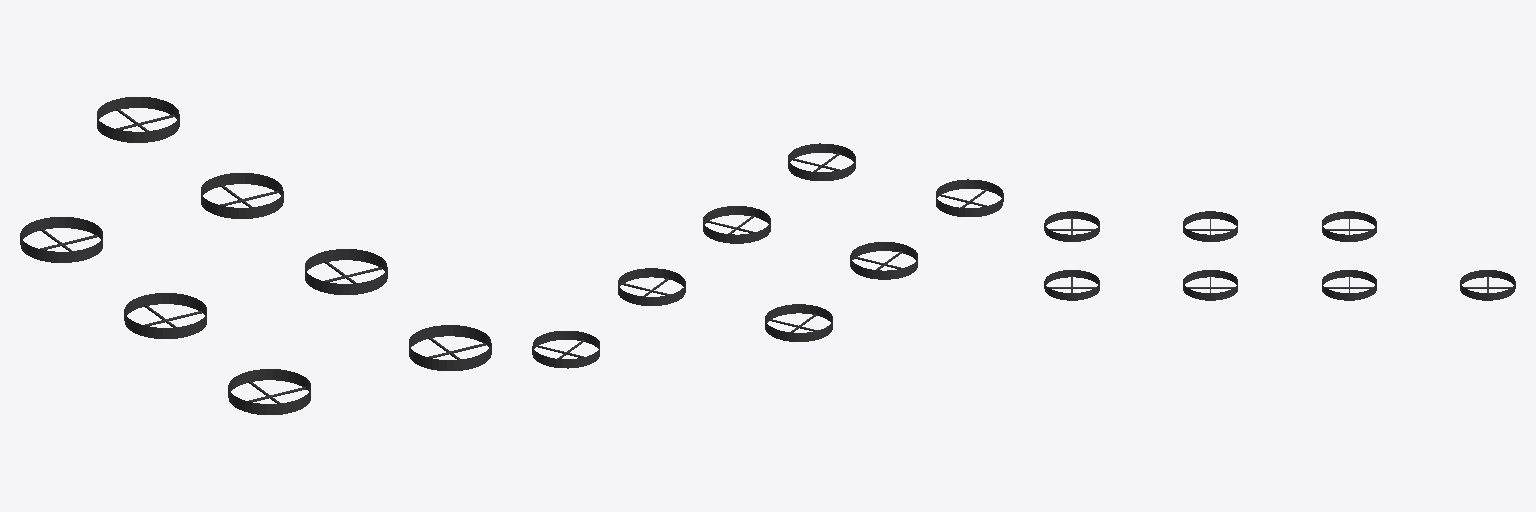
robot.urdf — 2x1:
<?xml version="1.0"?>
<robot name="2x1">
    <properties arm="0.0397" kf="3.16e-10" km="7.94e-12" thrust2weight="2.25" max_speed_kmh="30" gnd_eff_coeff="11.36859" prop_radius="2.31348e-2" drag_coeff_xy="9.1785e-7" drag_coeff_z="10.311e-7" dw_coeff_1="2267.18" dw_coeff_2=".16" dw_coeff_3="-.11" />
    <link name="robot_base">
        <!-- TODO: Change inertial and mass values -->
        <inertial>
            <!-- <origin rpy="-3.141593 3.141593 -3.141593" xyz="-0.100000 -0.100000 0.350000" /> -->
            <origin rpy="-3.141593 3.141593 -3.141593" xyz="0 0 0.240000" />
            <inertia ixx="0.006756000000000001" ixz="0.0" ixy="0.0" iyy="2.8e-05" iyz="0.0" izz="0.0067714" />
            <mass value="0.068" />
        </inertial>
        <collision name="MultiRotor">
            <origin xyz="-0.100000 -0.100000 0.350000" rpy="-3.141593 3.141593 -3.141593" />
            <geometry>
                <box size="0.200000 0.400000 0.020000" />
            </geometry>
        </collision>
        <visual name="Shape2">
            <origin xyz="-0.100001 -0.000000 0.379999" rpy="-1.570294 -1.570796 0.000000" />
            <geometry>
                <mesh filename="./2x1_Shape2_vis_1.dae" />
            </geometry>
            <material name="Shape2_material">
                <color rgba="1.000000 1.000000 1.000000 1.0" />
            </material>
        </visual>
        <visual name="Shape1">
            <origin xyz="-0.099992 -0.199992 0.380003" rpy="-1.570294 -1.570796 0.000000" />
            <geometry>
                <mesh filename="./2x1_Shape1_vis_1.dae" />
            </geometry>
            <material name="Shape1_material">
                <color rgba="1.000000 1.000000 1.000000 1.0" />
            </material>
        </visual>
    </link>
    <joint name="propeller1" type="fixed">
        <axis xyz="0 0 1" />
        <parent link="robot_base" />
        <child link="propellerrespondable1" />
        <origin xyz="-0.049994 -0.049989 0.380002" rpy="-3.141593 3.141593 -3.141593" />
    </joint>
    <link name="propellerrespondable1">
        <inertial>
            <origin rpy="3.141593 3.141593 1.865350" xyz="-0.000000 0.000000 0.012000" />
            <inertia ixx="8.2325171633286e-08" ixz="5.7933230213793e-16" ixy="-5.0583716089947e-21" iyy="8.2325156656747e-08" iyz="-5.6129890954029e-16" izz="1.5977926901062e-07" />
            <mass value="0.00051458994857967" />
        </inertial>
        <collision name="propeller_respondable1">
            <origin xyz="-0.000000 0.000000 0.012000" rpy="3.141593 3.141593 1.865350" />
            <geometry>
                <cylinder length="0.0075362827628851" radius="0.024999996647239" />
            </geometry>
        </collision>
        <visual name="propeller_body">
            <origin xyz="-0.000000 0.000000 0.012000" rpy="-3.141593 3.141593 -3.141593" />
            <geometry>
                <mesh filename="./2x1_propellerbody_vis_1.dae" />
            </geometry>
            <material name="propellerbody_material">
                <color rgba="0.288235 0.288235 0.288235 1.0" />
            </material>
        </visual>
    </link>
    <joint name="propeller4" type="fixed">
        <axis xyz="0 0 1" />
        <parent link="robot_base" />
        <child link="propellerrespondable4" />
        <origin xyz="-0.049994 0.050010 0.380002" rpy="-3.141593 3.141593 -3.141593" />
    </joint>
    <link name="propellerrespondable4">
        <inertial>
            <origin rpy="3.141593 3.141593 1.865350" xyz="-0.000000 0.000000 0.012000" />
            <inertia ixx="8.2325171633286e-08" ixz="5.7933230213793e-16" ixy="-5.0583716089947e-21" iyy="8.2325156656747e-08" iyz="-5.6129890954029e-16" izz="1.5977926901062e-07" />
            <mass value="0.00051458994857967" />
        </inertial>
        <collision name="propeller_respondable4">
            <origin xyz="-0.000000 0.000000 0.012000" rpy="3.141593 3.141593 1.865350" />
            <geometry>
                <cylinder length="0.0075362827628851" radius="0.024999996647239" />
            </geometry>
        </collision>
        <visual name="propeller_body">
            <origin xyz="-0.000000 0.000000 0.012000" rpy="-3.141593 3.141593 -3.141593" />
            <geometry>
                <mesh filename="./2x1_propellerbody_vis_1.dae" />
            </geometry>
            <material name="propellerbody_material">
                <color rgba="0.288235 0.288235 0.288235 1.0" />
            </material>
        </visual>
    </link>
    <joint name="propeller2" type="fixed">
        <axis xyz="0 0 1" />
        <parent link="robot_base" />
        <child link="propellerrespondable2" />
        <origin xyz="-0.149993 -0.049989 0.380002" rpy="-3.141593 3.141593 -3.141593" />
    </joint>
    <link name="propellerrespondable2">
        <inertial>
            <origin rpy="3.141593 3.141593 1.865350" xyz="-0.000000 0.000000 0.012000" />
            <inertia ixx="8.2325171633286e-08" ixz="5.7933230213793e-16" ixy="-5.0583716089947e-21" iyy="8.2325156656747e-08" iyz="-5.6129890954029e-16" izz="1.5977926901062e-07" />
            <mass value="0.00051458994857967" />
        </inertial>
        <collision name="propeller_respondable2">
            <origin xyz="-0.000000 0.000000 0.012000" rpy="3.141593 3.141593 1.865350" />
            <geometry>
                <cylinder length="0.0075362827628851" radius="0.024999996647239" />
            </geometry>
        </collision>
        <visual name="propeller_body">
            <origin xyz="-0.000000 0.000000 0.012000" rpy="-3.141593 3.141593 -3.141593" />
            <geometry>
                <mesh filename="./2x1_propellerbody_vis_1.dae" />
            </geometry>
            <material name="propellerbody_material">
                <color rgba="0.288235 0.288235 0.288235 1.0" />
            </material>
        </visual>
    </link>
    <joint name="propeller3" type="fixed">
        <axis xyz="0 0 1" />
        <parent link="robot_base" />
        <child link="propellerrespondable3" />
        <origin xyz="-0.149993 0.050010 0.380002" rpy="-3.141593 3.141593 -3.141593" />
    </joint>
    <link name="propellerrespondable3">
        <inertial>
            <origin rpy="3.141593 3.141593 1.865350" xyz="-0.000000 0.000000 0.012000" />
            <inertia ixx="8.2325171633286e-08" ixz="5.7933230213793e-16" ixy="-5.0583716089947e-21" iyy="8.2325156656747e-08" iyz="-5.6129890954029e-16" izz="1.5977926901062e-07" />
            <mass value="0.00051458994857967" />
        </inertial>
        <collision name="propeller_respondable3">
            <origin xyz="-0.000000 0.000000 0.012000" rpy="3.141593 3.141593 1.865350" />
            <geometry>
                <cylinder length="0.0075362827628851" radius="0.024999996647239" />
            </geometry>
        </collision>
        <visual name="propeller_body3">
            <origin xyz="-0.000000 0.000000 0.012000" rpy="-3.141593 3.141593 -3.141593" />
            <geometry>
                <mesh filename="./2x1_propellerbody3_vis_1.dae" />
            </geometry>
            <material name="propellerbody3_material">
                <color rgba="0.288235 0.288235 0.288235 1.0" />
            </material>
        </visual>
    </link>
    <joint name="propeller5" type="fixed">
        <axis xyz="0 0 1" />
        <parent link="robot_base" />
        <child link="propellerrespondable5" />
        <origin xyz="-0.049993 -0.249992 0.380002" rpy="-3.141593 3.141593 -3.141593" />
    </joint>
    <link name="propellerrespondable5">
        <inertial>
            <origin rpy="3.141593 3.141593 1.865350" xyz="-0.000000 0.000000 0.012000" />
            <inertia ixx="8.2325171633286e-08" ixz="5.7933230213793e-16" ixy="-5.0583716089947e-21" iyy="8.2325156656747e-08" iyz="-5.6129890954029e-16" izz="1.5977926901062e-07" />
            <mass value="0.00051458994857967" />
        </inertial>
        <collision name="propeller_respondable5">
            <origin xyz="-0.000000 0.000000 0.012000" rpy="3.141593 3.141593 1.865350" />
            <geometry>
                <cylinder length="0.0075362827628851" radius="0.024999996647239" />
            </geometry>
        </collision>
        <visual name="propeller_body5">
            <origin xyz="-0.000000 0.000000 0.012000" rpy="-3.141593 3.141593 -3.141593" />
            <geometry>
                <mesh filename="./2x1_propellerbody5_vis_1.dae" />
            </geometry>
            <material name="propellerbody5_material">
                <color rgba="0.288235 0.288235 0.288235 1.0" />
            </material>
        </visual>
    </link>
    <joint name="propeller6" type="fixed">
        <axis xyz="0 0 1" />
        <parent link="robot_base" />
        <child link="propellerrespondable6" />
        <origin xyz="-0.149993 -0.249992 0.380002" rpy="-3.141593 3.141593 -3.141593" />
    </joint>
    <link name="propellerrespondable6">
        <inertial>
            <origin rpy="3.141593 3.141593 1.865350" xyz="-0.000000 0.000000 0.012000" />
            <inertia ixx="8.2325171633286e-08" ixz="5.7933230213793e-16" ixy="-5.0583716089947e-21" iyy="8.2325156656747e-08" iyz="-5.6129890954029e-16" izz="1.5977926901062e-07" />
            <mass value="0.00051458994857967" />
        </inertial>
        <collision name="propeller_respondable6">
            <origin xyz="-0.000000 0.000000 0.012000" rpy="3.141593 3.141593 1.865350" />
            <geometry>
                <cylinder length="0.0075362827628851" radius="0.024999996647239" />
            </geometry>
        </collision>
        <visual name="propeller_body">
            <origin xyz="-0.000000 0.000000 0.012000" rpy="-3.141593 3.141593 -3.141593" />
            <geometry>
                <mesh filename="./2x1_propellerbody_vis_1.dae" />
            </geometry>
            <material name="propellerbody_material">
                <color rgba="0.288235 0.288235 0.288235 1.0" />
            </material>
        </visual>
    </link>
    <joint name="propeller8" type="fixed">
        <axis xyz="0 0 1" />
        <parent link="robot_base" />
        <child link="propellerrespondable8" />
        <origin xyz="-0.049993 -0.149992 0.380002" rpy="-3.141593 3.141593 -3.141593" />
    </joint>
    <link name="propellerrespondable8">
        <inertial>
            <origin rpy="3.141593 3.141593 1.865350" xyz="-0.000000 0.000000 0.012000" />
            <inertia ixx="8.2325171633286e-08" ixz="5.7933230213793e-16" ixy="-5.0583716089947e-21" iyy="8.2325156656747e-08" iyz="-5.6129890954029e-16" izz="1.5977926901062e-07" />
            <mass value="0.00051458994857967" />
        </inertial>
        <collision name="propeller_respondable8">
            <origin xyz="-0.000000 0.000000 0.012000" rpy="3.141593 3.141593 1.865350" />
            <geometry>
                <cylinder length="0.0075362827628851" radius="0.024999996647239" />
            </geometry>
        </collision>
        <visual name="propeller_body">
            <origin xyz="-0.000000 0.000000 0.012000" rpy="-3.141593 3.141593 -3.141593" />
            <geometry>
                <mesh filename="./2x1_propellerbody_vis_1.dae" />
            </geometry>
            <material name="propellerbody_material">
                <color rgba="0.288235 0.288235 0.288235 1.0" />
            </material>
        </visual>
    </link>
    <joint name="propeller7" type="fixed">
        <axis xyz="0 0 1" />
        <parent link="robot_base" />
        <child link="propellerrespondable7" />
        <origin xyz="-0.149993 -0.149992 0.380002" rpy="-3.141593 3.141593 -3.141593" />
    </joint>
    <link name="propellerrespondable7">
        <inertial>
            <origin rpy="3.141593 3.141593 1.865350" xyz="-0.000000 0.000000 0.012000" />
            <inertia ixx="8.2325171633286e-08" ixz="5.7933230213793e-16" ixy="-5.0583716089947e-21" iyy="8.2325156656747e-08" iyz="-5.6129890954029e-16" izz="1.5977926901062e-07" />
            <mass value="0.00051458994857967" />
        </inertial>
        <collision name="propeller_respondable7">
            <origin xyz="-0.000000 0.000000 0.012000" rpy="3.141593 3.141593 1.865350" />
            <geometry>
                <cylinder length="0.0075362827628851" radius="0.024999996647239" />
            </geometry>
        </collision>
        <visual name="propeller_body">
            <origin xyz="-0.000000 0.000000 0.012000" rpy="-3.141593 3.141593 -3.141593" />
            <geometry>
                <mesh filename="./2x1_propellerbody_vis_1.dae" />
            </geometry>
            <material name="propellerbody_material">
                <color rgba="0.288235 0.288235 0.288235 1.0" />
            </material>
        </visual>
    </link>
</robot>

--- Render facts (derived) ---
The picture shows the robot from 3 angles, left to right: view 1: azimuth 30°, elevation 25°; view 2: azimuth 150°, elevation 25°; view 3: azimuth 270°, elevation 25°; orthographic projection.
Robot: 2x1 — 9 links, 8 joints (8 fixed); root link robot_base; default pose: all joints at 0.
Links seen in each view (by area): view 1: propellerrespondable4, propellerrespondable5, propellerrespondable6, propellerrespondable8, propellerrespondable2, propellerrespondable1, propellerrespondable7; view 2: propellerrespondable1, propellerrespondable8, propellerrespondable7, propellerrespondable2, propellerrespondable5, propellerrespondable4, propellerrespondable6; view 3: propellerrespondable4, propellerrespondable5, propellerrespondable6, propellerrespondable1, propellerrespondable8, propellerrespondable2, propellerrespondable7.
Link boxes in pixels (x1,y1,x2,y2): propellerrespondable4: [97, 97, 179, 142]; propellerrespondable5: [409, 325, 491, 370]; propellerrespondable6: [228, 369, 310, 414]; propellerrespondable8: [305, 249, 387, 294]; propellerrespondable2: [20, 217, 102, 262]; propellerrespondable1: [201, 173, 283, 218]; propellerrespondable7: [124, 293, 206, 338]; propellerrespondable1: [618, 268, 685, 305]; propellerrespondable8: [703, 206, 770, 243]; propellerrespondable7: [850, 242, 917, 279]; propellerrespondable2: [765, 304, 832, 341]; propellerrespondable5: [788, 143, 855, 180]; propellerrespondable4: [532, 331, 599, 368]; propellerrespondable6: [936, 179, 1003, 216]; propellerrespondable4: [1460, 270, 1515, 300]; propellerrespondable5: [1044, 270, 1099, 300]; propellerrespondable6: [1044, 211, 1099, 241]; propellerrespondable1: [1322, 270, 1376, 300]; propellerrespondable8: [1183, 270, 1237, 300]; propellerrespondable2: [1322, 211, 1376, 241]; propellerrespondable7: [1183, 211, 1237, 241].
Bounding box of the posed robot: 0.14 × 0.34 × 0.006 m (x, y, z).
Meshes: 5 distinct files referenced, 7 mesh visuals loaded (2 Collada DAE); not drawn: 3 (reference not matched to a file when rendering).